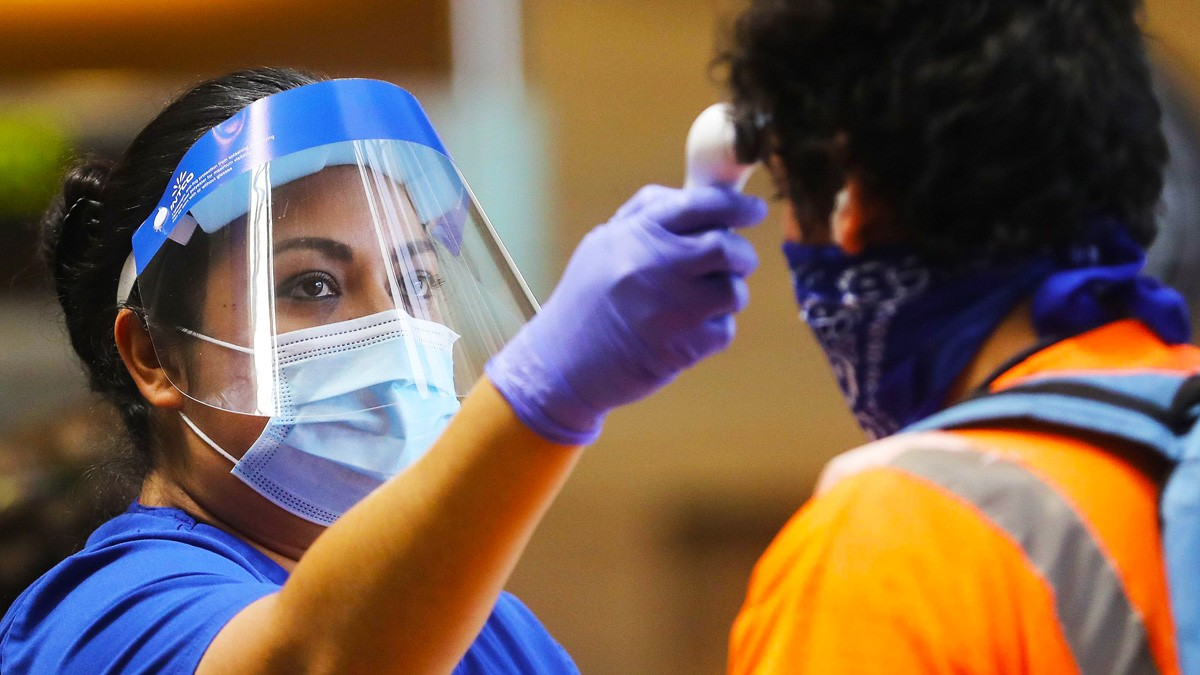Face_Shield: (116, 73, 570, 437)
Gloves: (480, 176, 772, 448)
with_mask: (239, 245, 463, 527)
